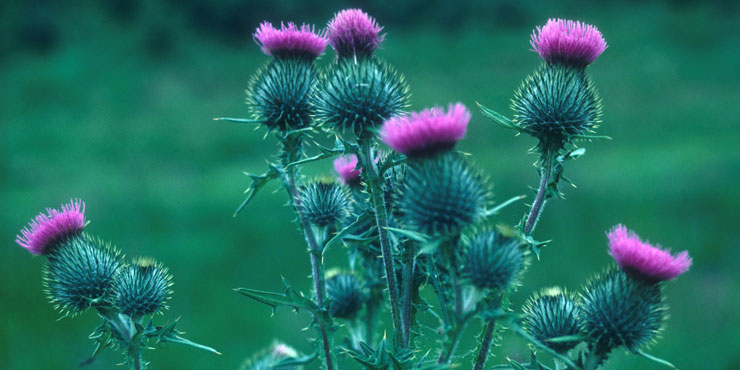thistle: (376, 105, 499, 238), (593, 223, 690, 358), (322, 9, 414, 143), (516, 14, 609, 140), (15, 205, 120, 309), (245, 22, 314, 128)
